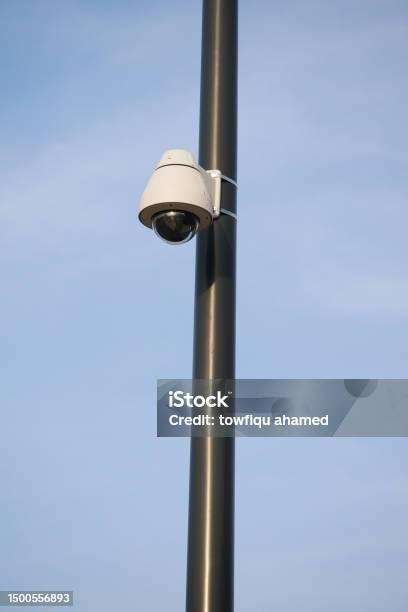360-Cam: (132, 145, 220, 248)
